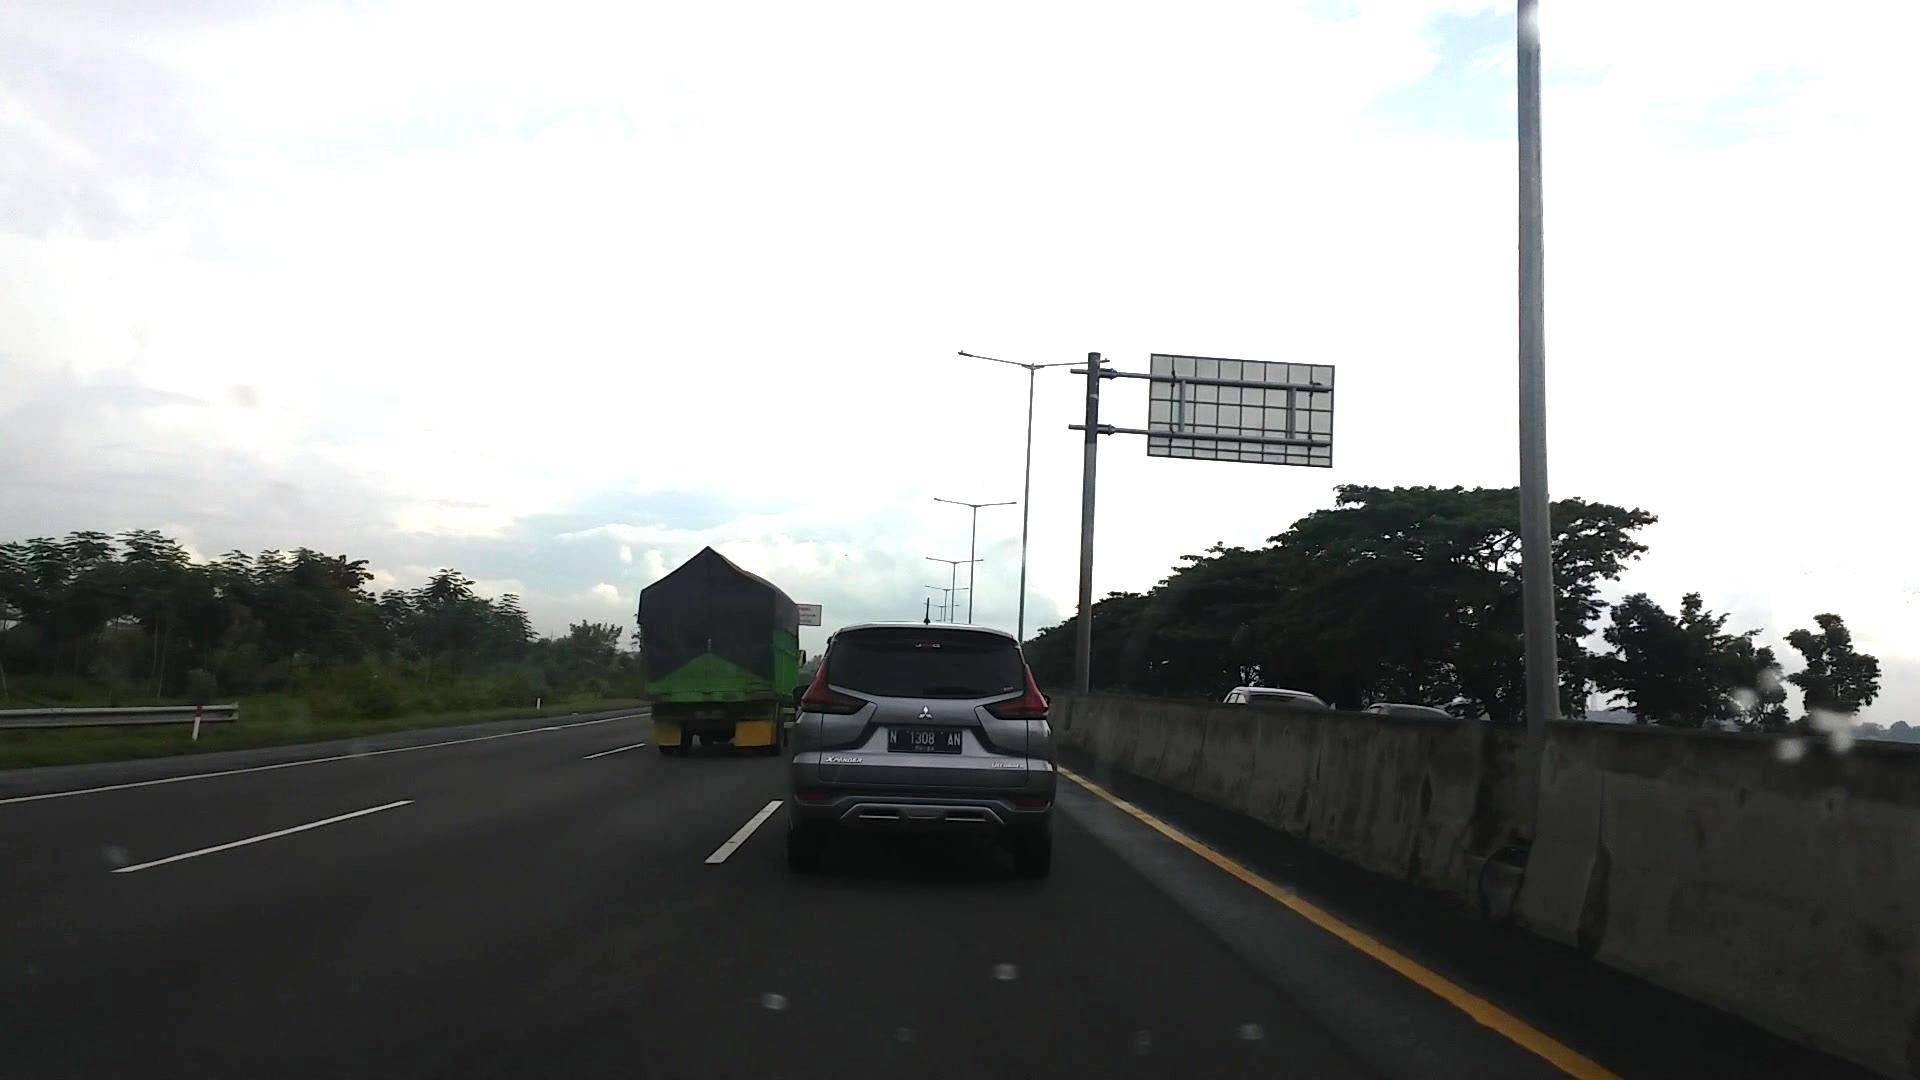plate_positive: (887, 727, 963, 756)
